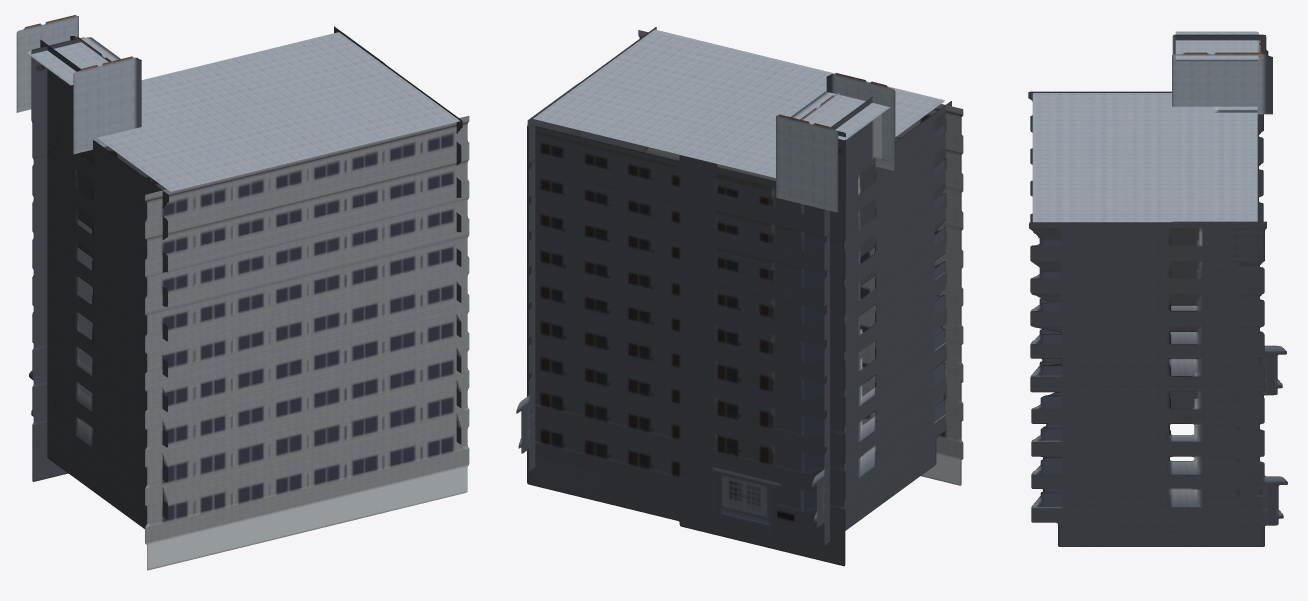
Rendered from __apartment_ikeda_001_low.fbx.
The picture shows the model from 3 angles, left to right: view 1: azimuth 30°, elevation 25°; view 2: azimuth 150°, elevation 25°; view 3: azimuth 270°, elevation 25°; orthographic projection. The views are drawn at different scales.
Visible parts, largest first — view 1: pCube6; view 2: pCube6; view 3: pCube6.
Part boxes in pixels (x1,y1,x2,y2): pCube6: [16, 15, 469, 570]; pCube6: [516, 27, 963, 566]; pCube6: [1028, 31, 1287, 546].
Bounding box in the file's own units: 1.17 × 1.47 × 0.9389.
